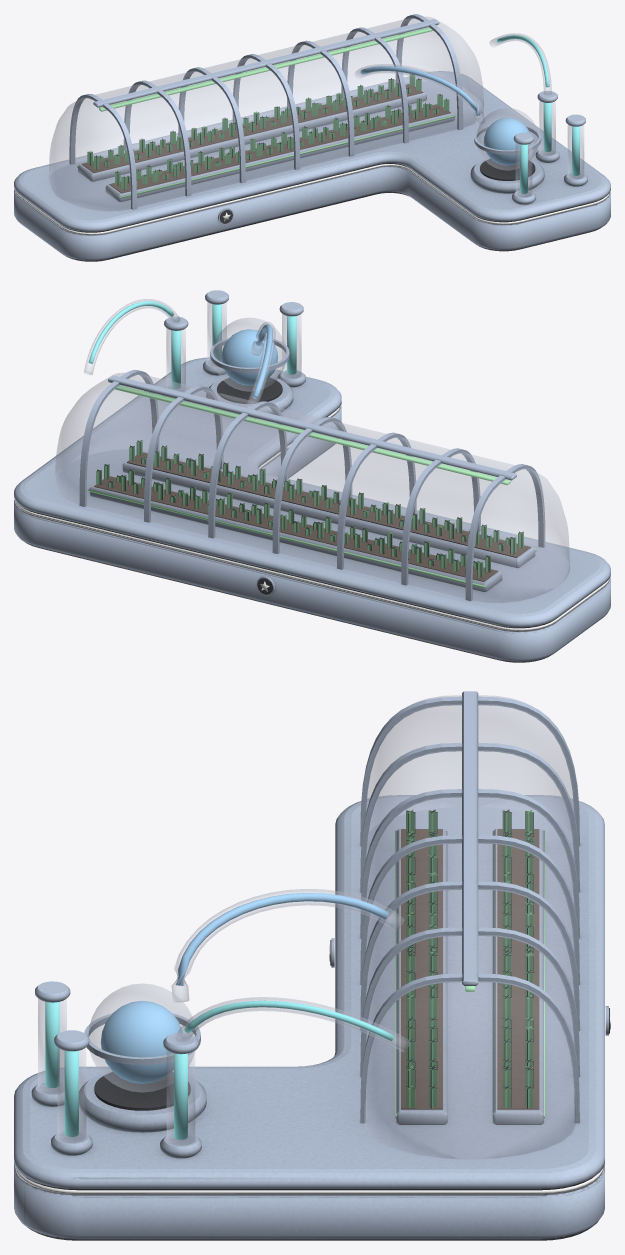
Rendered from SM_Evo_EcoModule.fbx.
3 renders of one model, top to bottom at view 1: azimuth 30°, elevation 25°; view 2: azimuth 150°, elevation 25°; view 3: azimuth 270°, elevation 25°, orthographic. The views are drawn at different scales.
Visible parts, largest first — view 1: SMN_Evo_EcoModule, Emblem_Fx_EcoModule; view 2: SMN_Evo_EcoModule, Emblem_Fx_EcoModule; view 3: SMN_Evo_EcoModule, Emblem_Fx_EcoModule.
Boxes of the visible parts, box(x1,y1,x2,y2) form: SMN_Evo_EcoModule: box(14, 14, 610, 261); Emblem_Fx_EcoModule: box(15, 17, 609, 234); SMN_Evo_EcoModule: box(14, 290, 610, 662); Emblem_Fx_EcoModule: box(15, 299, 609, 631); SMN_Evo_EcoModule: box(14, 691, 609, 1240); Emblem_Fx_EcoModule: box(15, 695, 610, 1194).
Size of the model in its own units: 2.84 by 0.8295 by 1.86.
